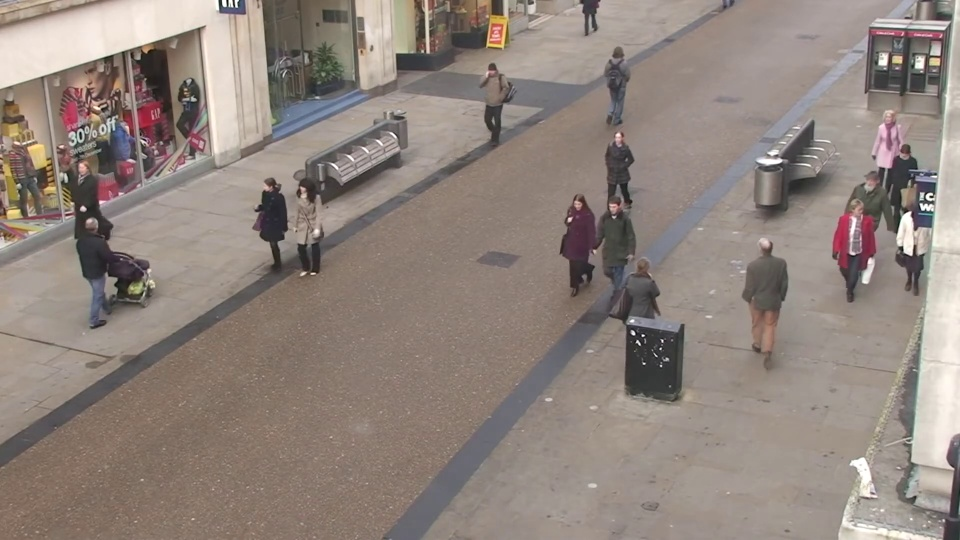pedestrian: (79, 208, 132, 325), (622, 248, 666, 380), (742, 223, 787, 348), (827, 198, 873, 316), (58, 158, 107, 263), (842, 169, 887, 280), (875, 143, 921, 249), (246, 178, 288, 289), (281, 178, 323, 289), (554, 194, 592, 312), (591, 195, 628, 314), (862, 110, 903, 207), (598, 126, 629, 226), (473, 63, 501, 144), (608, 42, 633, 118)
